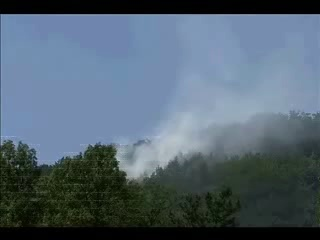smoke: (171, 20, 303, 153), (113, 121, 202, 183)
